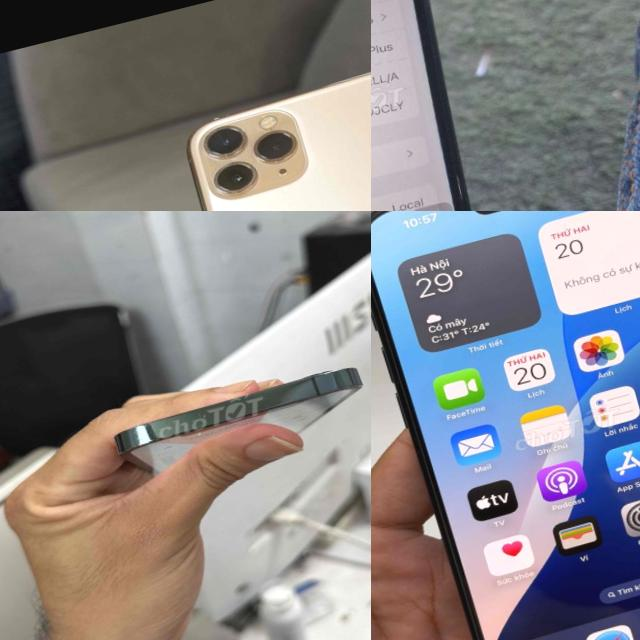gen_11: (166, 33, 371, 211)
gen_12_13: (97, 351, 371, 504)
gen_15: (371, 211, 640, 640)
gen_7_8: (371, 0, 533, 211)
